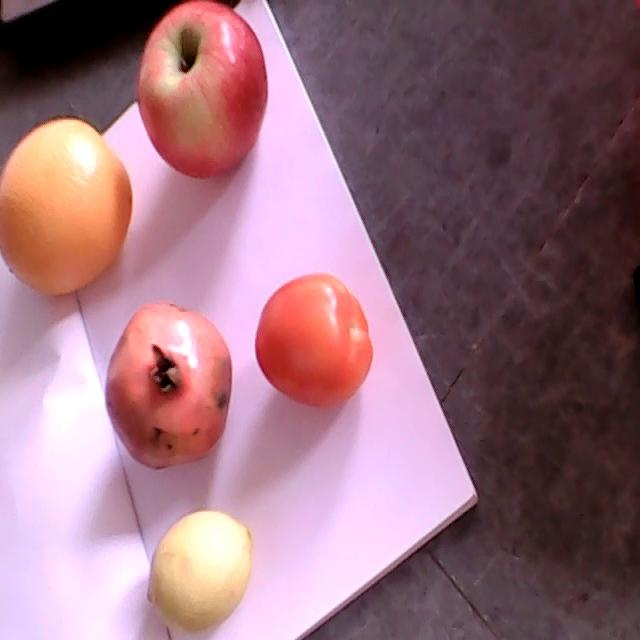apple: (138, 0, 268, 179)
lemon: (147, 509, 253, 630)
orange: (0, 118, 131, 295)
pomegranate: (105, 303, 231, 470)
tomato: (255, 273, 373, 405)
